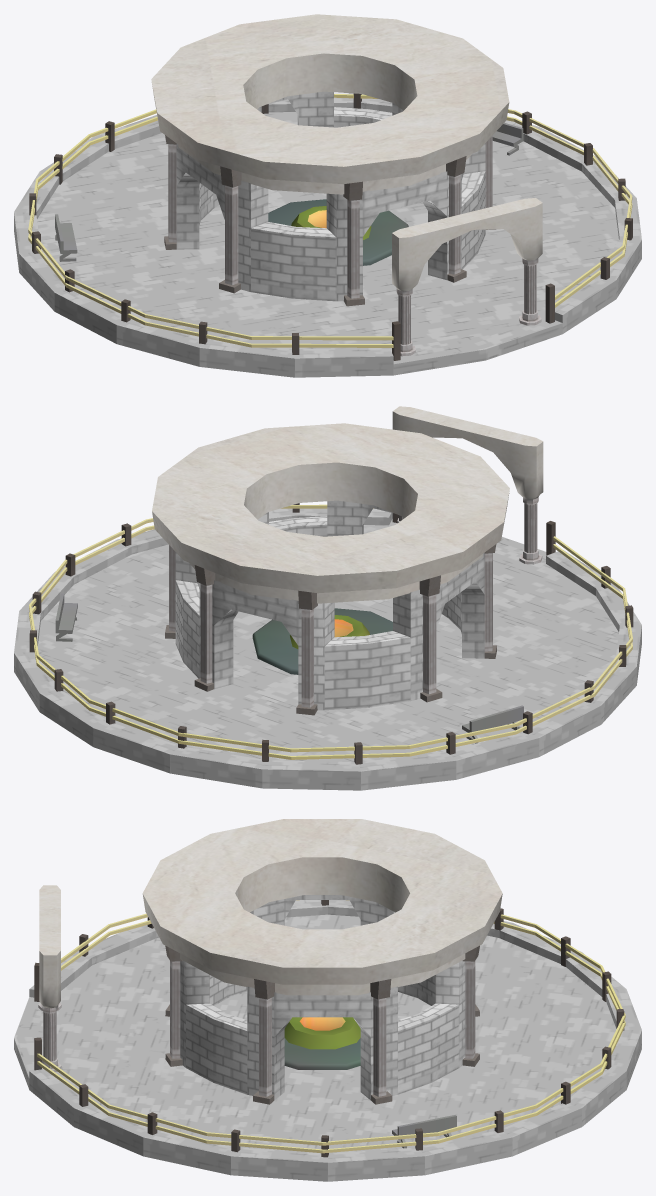
Rendered from santren_pisa.fbx.
The picture shows the model from 3 angles, top to bottom: view 1: azimuth 30°, elevation 25°; view 2: azimuth 150°, elevation 25°; view 3: azimuth 270°, elevation 25°; orthographic projection.
Parts seen in each view (by area): view 1: santren_Pisa; view 2: santren_Pisa; view 3: santren_Pisa.
Boxes of the visible parts, left/top/right/bottom form: santren_Pisa: left=14, top=14, right=641, bottom=377; santren_Pisa: left=14, top=406, right=641, bottom=790; santren_Pisa: left=14, top=819, right=641, bottom=1181.
Size of the model in its own units: 1899 by 519 by 1899.
